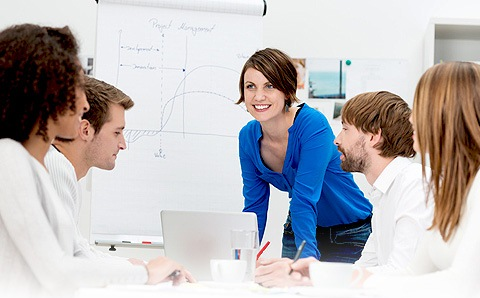person: (214, 50, 336, 203), (332, 85, 422, 240)
